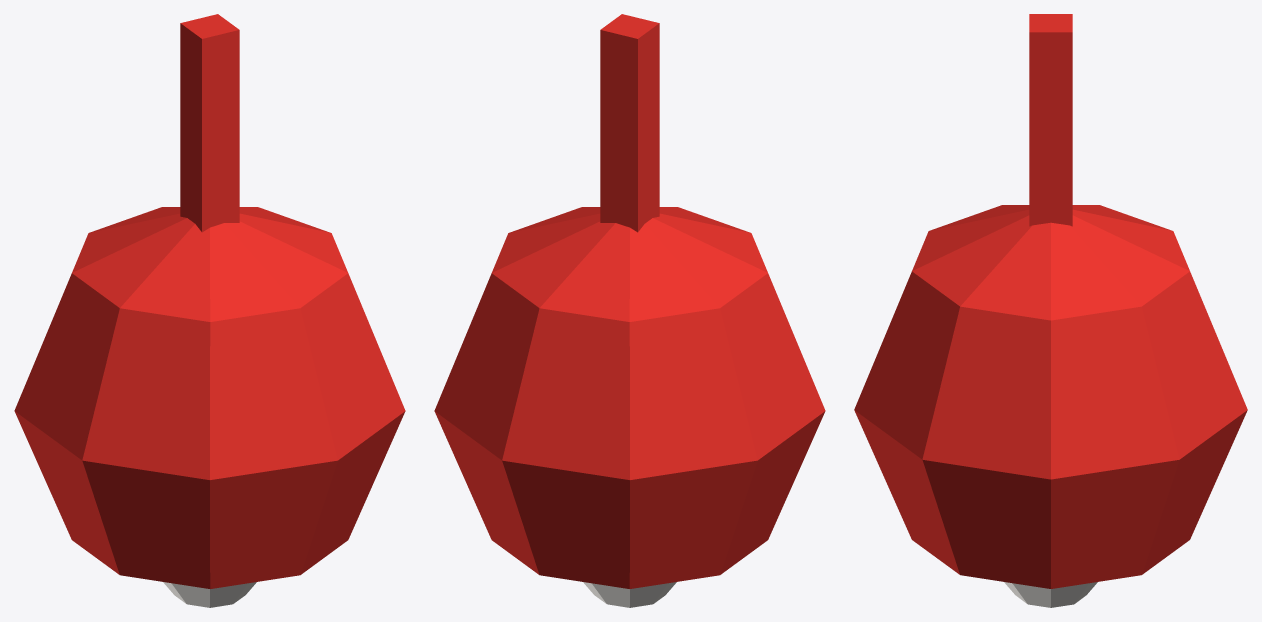
File: bobber.obj
3 renders of one model, left to right at view 1: azimuth 30°, elevation 25°; view 2: azimuth 150°, elevation 25°; view 3: azimuth 270°, elevation 25°, orthographic.
Parts seen in each view (by area): view 1: bobber; view 2: bobber; view 3: bobber.
Boxes of the visible parts, bbox=[...] form: bobber: bbox=[14, 14, 405, 607]; bobber: bbox=[434, 14, 825, 607]; bobber: bbox=[854, 14, 1247, 607].
Bounding box in the file's own units: 0.1067 × 0.173 × 0.1084.
